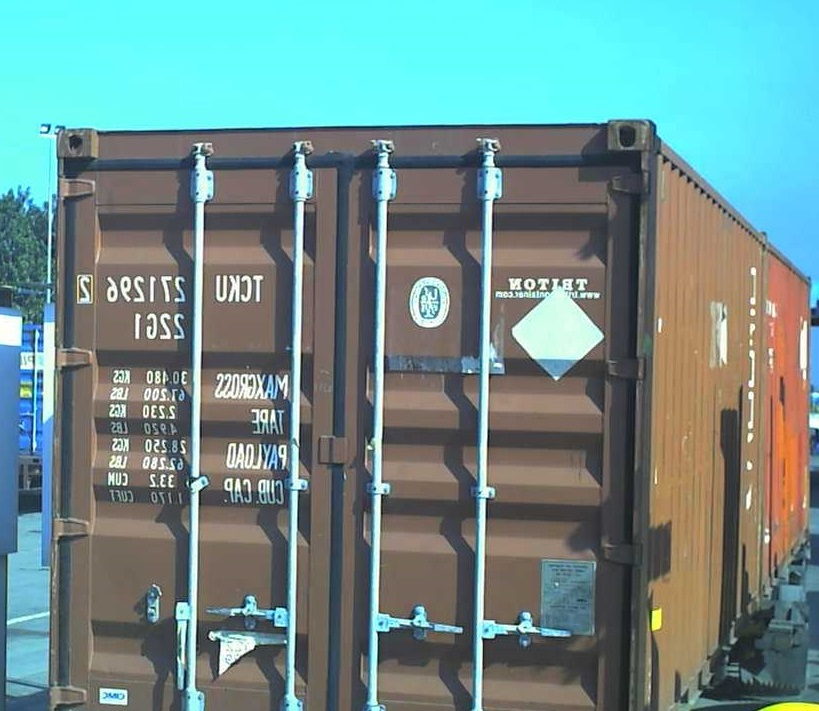container_door: (58, 126, 635, 711)
